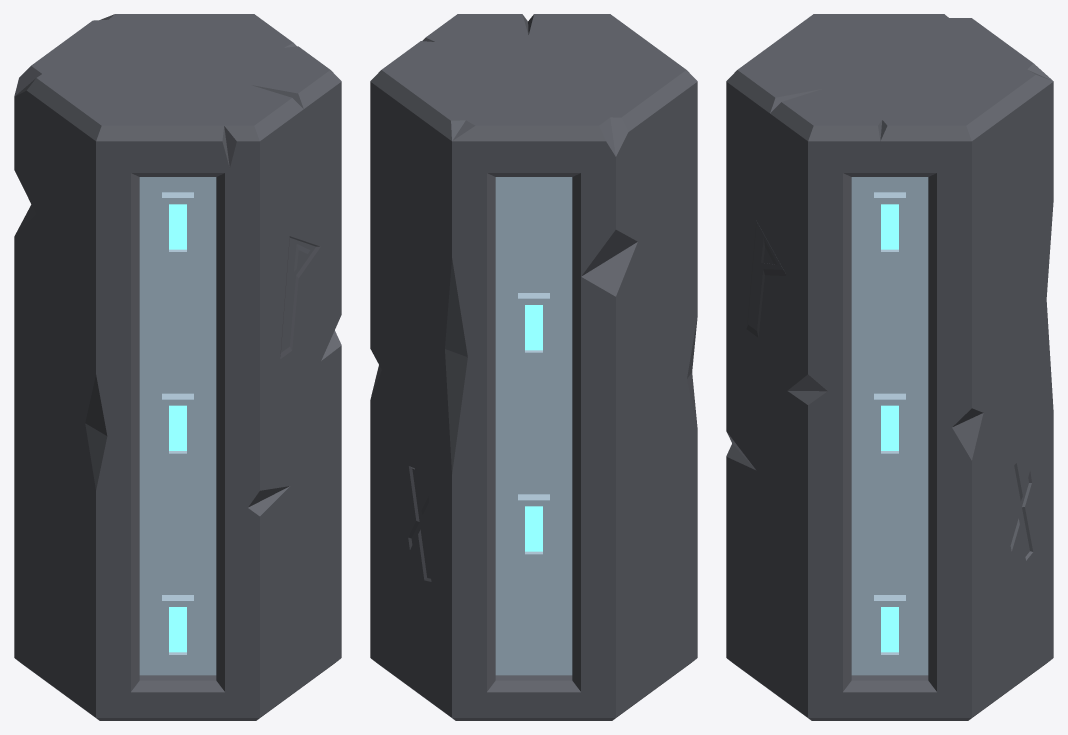
Rendered from Pillar_Hex.fbx.
The picture shows the model from 3 angles, left to right: view 1: azimuth 30°, elevation 25°; view 2: azimuth 150°, elevation 25°; view 3: azimuth 270°, elevation 25°; orthographic projection.
Parts seen in each view (by area): view 1: Pillar_Hex; view 2: Pillar_Hex; view 3: Pillar_Hex.
Part boxes in pixels (box(x1,y1,x2,y2)): Pillar_Hex: box(14, 14, 341, 720); Pillar_Hex: box(370, 14, 697, 720); Pillar_Hex: box(726, 14, 1053, 720).
Size of the model in its own units: 3.46 by 8 by 4.
